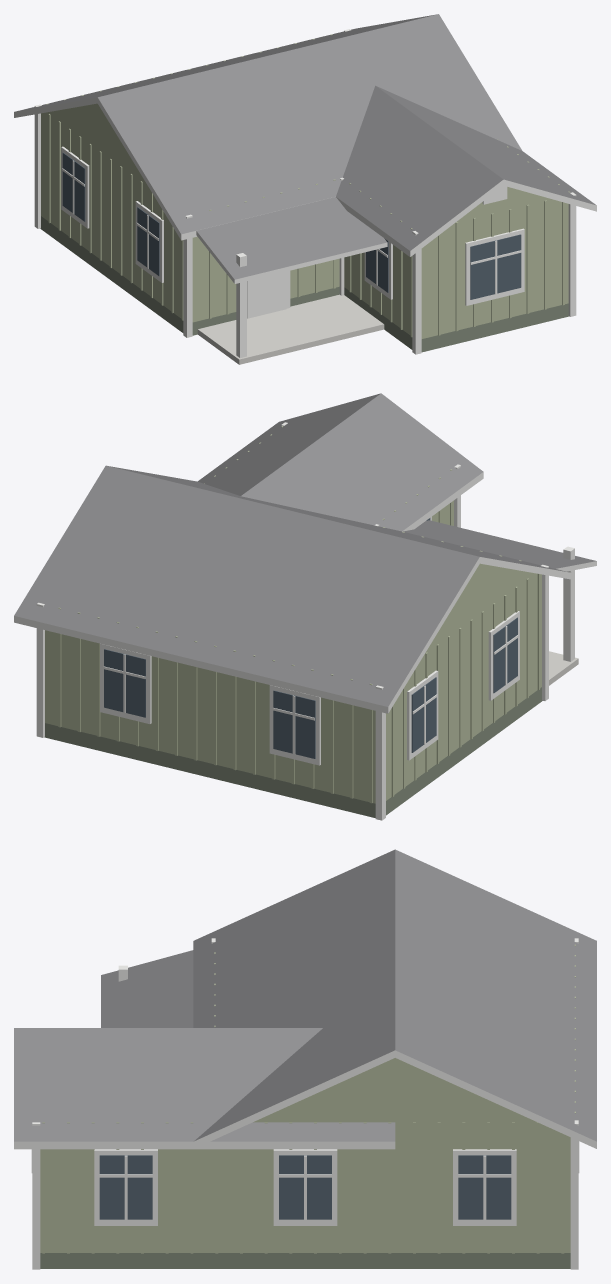
Rendered from lodi-sage.glb.
3 views of the same model, one above another, from view 1: azimuth 30°, elevation 25°; view 2: azimuth 150°, elevation 25°; view 3: azimuth 270°, elevation 25° (orthographic). The views are drawn at different scales.
Visible parts, largest first — view 1: The Lodi (sage); view 2: The Lodi (sage); view 3: The Lodi (sage).
Part boxes in pixels (<box>): The Lodi (sage): <box>14,14,596,364</box>; The Lodi (sage): <box>14,393,596,820</box>; The Lodi (sage): <box>14,849,596,1269</box>.
Bounding box in the file's own units: 8.08 × 4.27 × 9.9.
